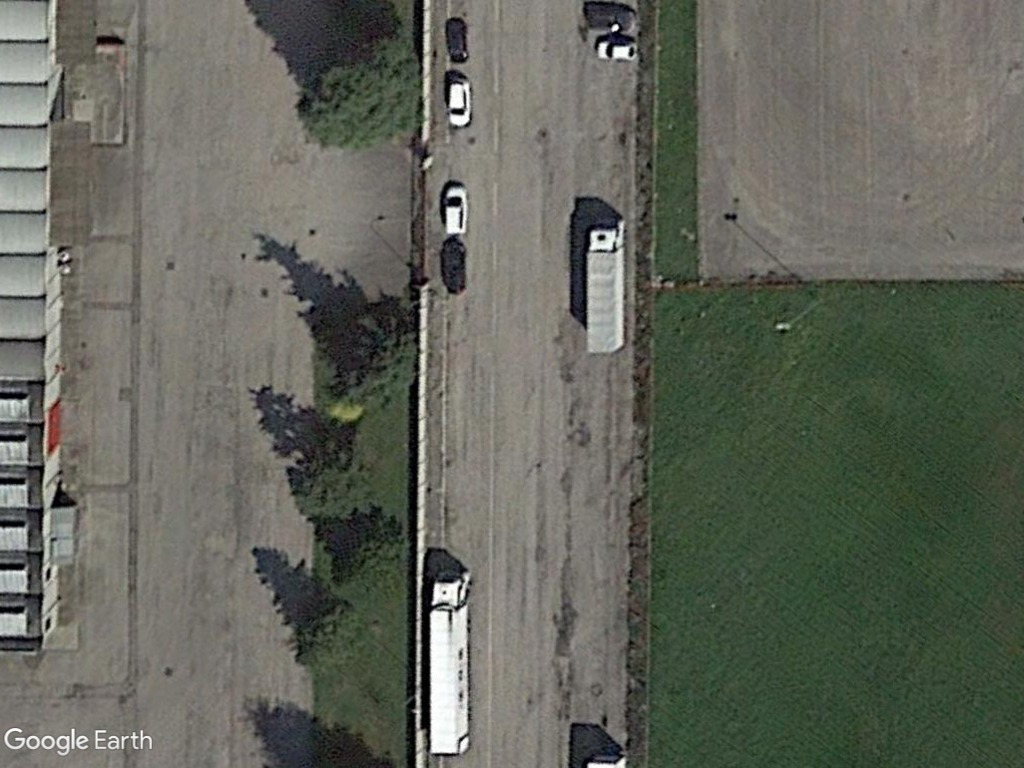car: (438, 179, 472, 238), (443, 73, 476, 131), (588, 34, 641, 66)
longvehicle: (423, 567, 478, 760)
truck: (580, 213, 631, 358)
